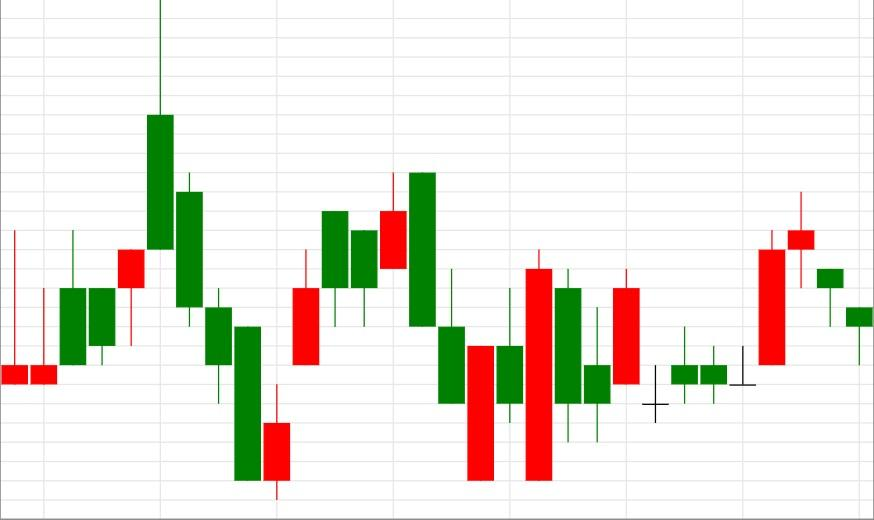bearish_engulfing_fall: (262, 171, 437, 499)
bullish_engulfing_rise: (408, 171, 553, 483)
